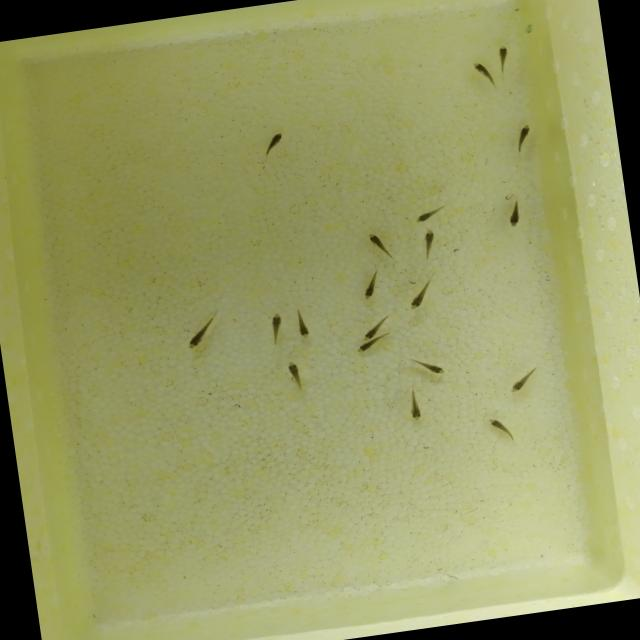fingerling: (178, 318, 222, 354), (401, 278, 436, 314), (361, 227, 394, 265), (484, 412, 518, 444), (257, 129, 293, 159), (505, 366, 540, 396), (471, 56, 499, 93), (404, 388, 429, 428), (263, 310, 290, 347), (510, 121, 538, 156), (410, 357, 449, 382), (290, 306, 316, 343), (358, 270, 385, 304), (410, 205, 448, 227), (283, 356, 306, 392), (502, 202, 526, 232), (419, 227, 438, 260), (494, 42, 513, 74), (350, 342, 374, 358), (356, 327, 381, 342)
